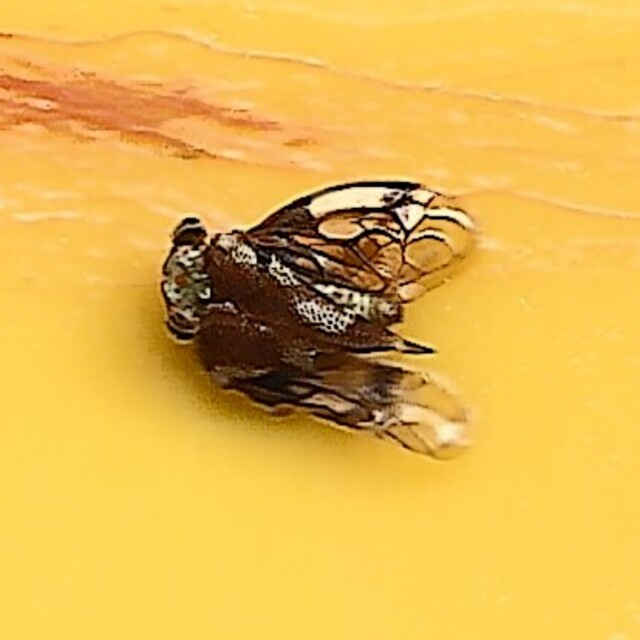Hemiptera: (155, 172, 485, 468)
